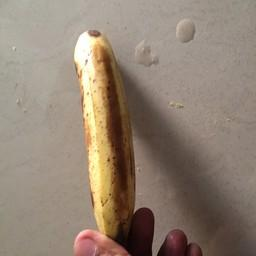Bad_banana: (76, 15, 253, 253)
